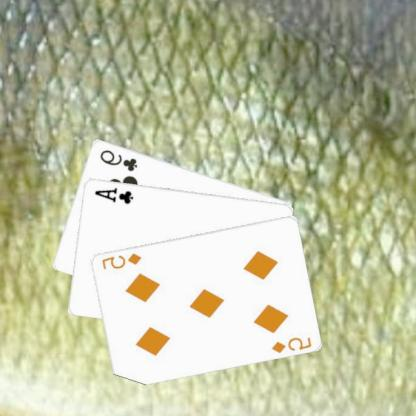5D: (270, 334, 314, 355), (101, 250, 144, 270)
9C: (99, 146, 141, 173)
AC: (93, 184, 136, 205)
